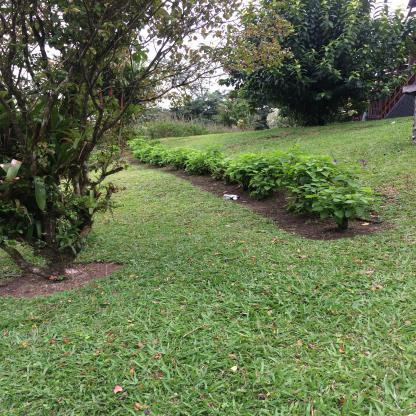plastik: (224, 195, 241, 201)
